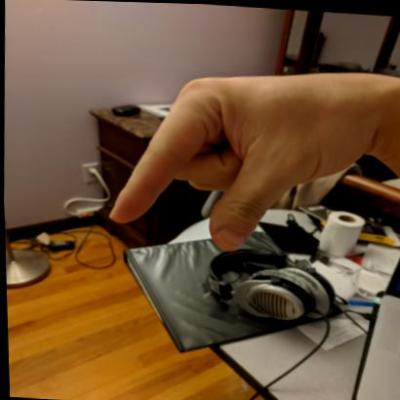hand: (99, 52, 377, 260)
